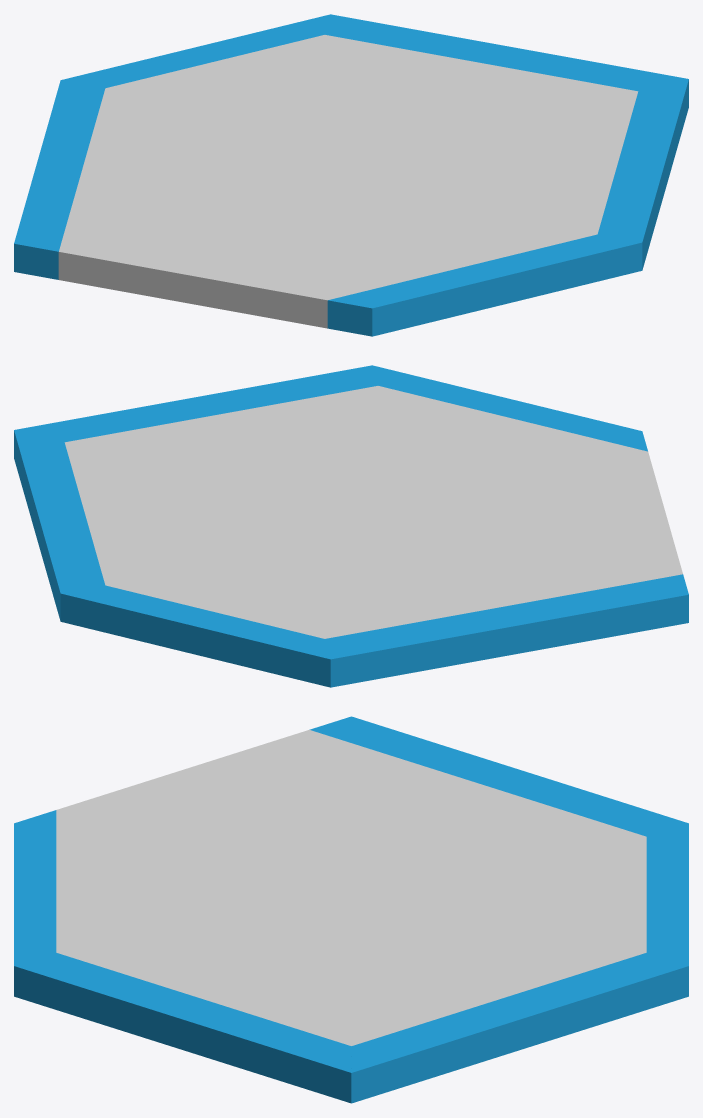
3 views of the same model, one above another, from view 1: azimuth 30°, elevation 25°; view 2: azimuth 150°, elevation 25°; view 3: azimuth 270°, elevation 25° (orthographic). The views are drawn at different scales.
Parts seen in each view (by area): view 1: Hexagon, S, NW, SEx, NEx, Nx; view 2: Hexagon, NW, Nx, NEx, SEx, S; view 3: Hexagon, NEx, SEx, NW, S, Nx.
Boxes of the visible parts, x1,y1,x2,y2 form: Hexagon: (58, 35, 638, 328); S: (327, 234, 642, 336); NW: (14, 80, 105, 279); SEx: (598, 79, 688, 269); NEx: (325, 14, 687, 91); Nx: (61, 14, 330, 88); Hexagon: (64, 386, 682, 638); NW: (325, 574, 688, 687); Nx: (60, 585, 330, 687); NEx: (14, 430, 104, 620); SEx: (15, 365, 377, 442); S: (372, 365, 647, 451); Hexagon: (56, 730, 646, 1045); NEx: (351, 952, 688, 1103); SEx: (14, 952, 351, 1103); NW: (309, 716, 688, 836); S: (14, 810, 56, 965); Nx: (646, 823, 688, 965).
Bounding box in the file's own units: 5 × 4 × 0.2.
